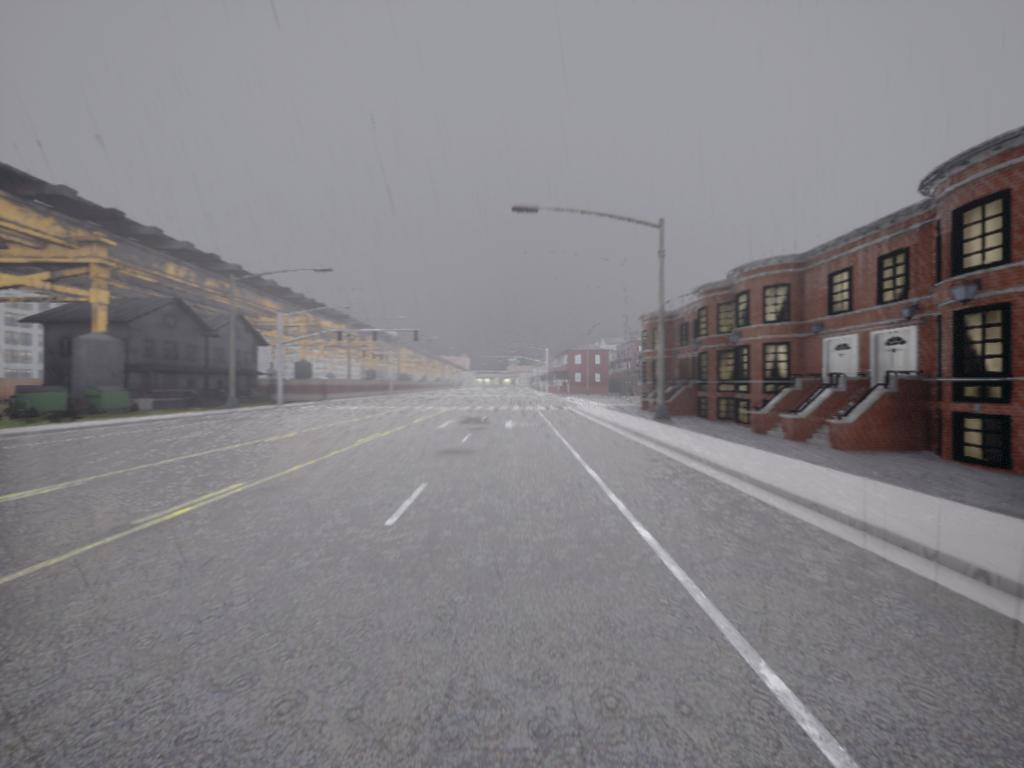traffic_light: (337, 331, 343, 343), (372, 332, 378, 343), (414, 331, 419, 342)
